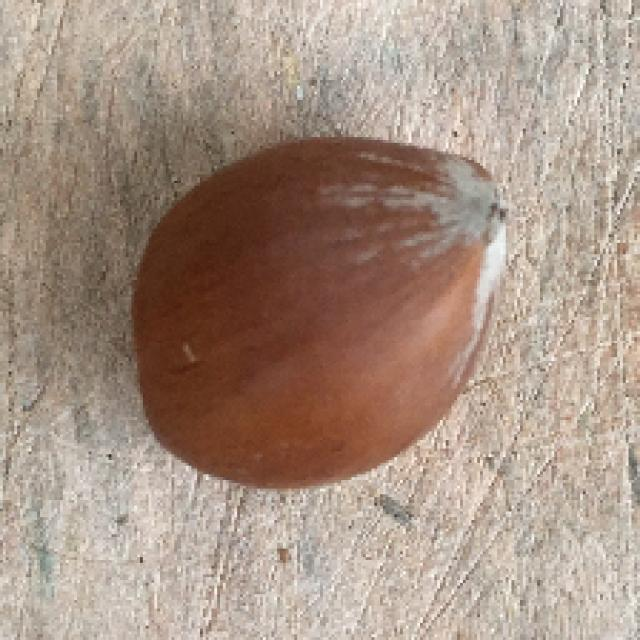qualityHazelnut: (132, 137, 514, 492)
